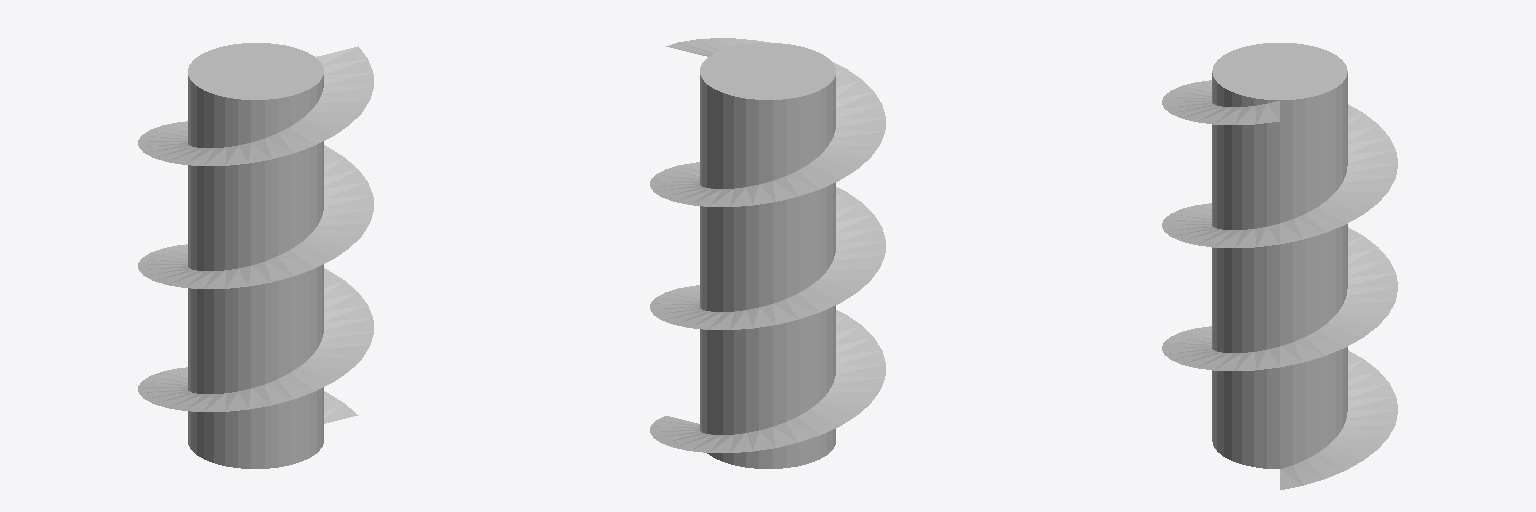
Rendered from 4revscrew.obj.
3 views of the same model, side by side, from view 1: azimuth 30°, elevation 25°; view 2: azimuth 150°, elevation 25°; view 3: azimuth 270°, elevation 25° (orthographic).
Visible parts, largest first — view 1: Cylinder, Plane; view 2: Cylinder, Plane; view 3: Cylinder, Plane.
Part boxes in pixels (left/top/right/bottom): Cylinder: left=188, top=43, right=323, bottom=468; Plane: left=138, top=46, right=373, bottom=423; Cylinder: left=700, top=43, right=835, bottom=468; Plane: left=650, top=38, right=885, bottom=452; Cylinder: left=1212, top=43, right=1347, bottom=468; Plane: left=1162, top=80, right=1397, bottom=489.
Size of the model in its own units: 3.49 by 6 by 3.49.